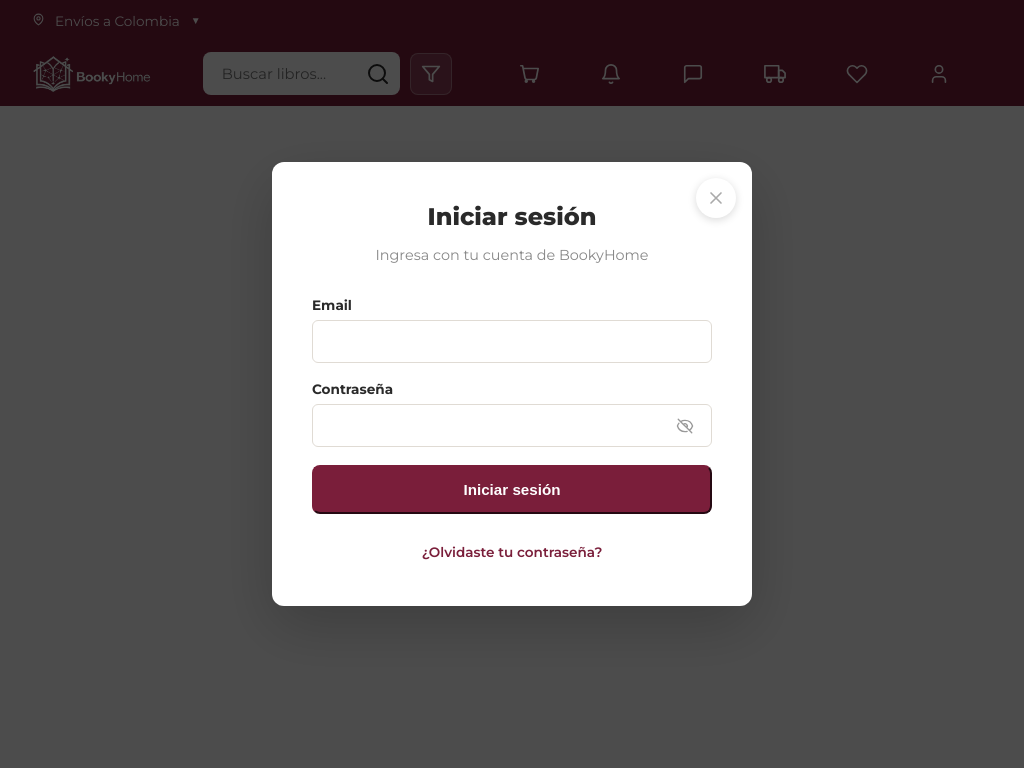
Scenario: Header — Login: submit exitoso › muestra error del servidor si las credenciales son incorrectas
Type "mal@test.com" into the field with id "login-email".
click(512, 342); type("mal@test.com")  # box [312,320,712,363]
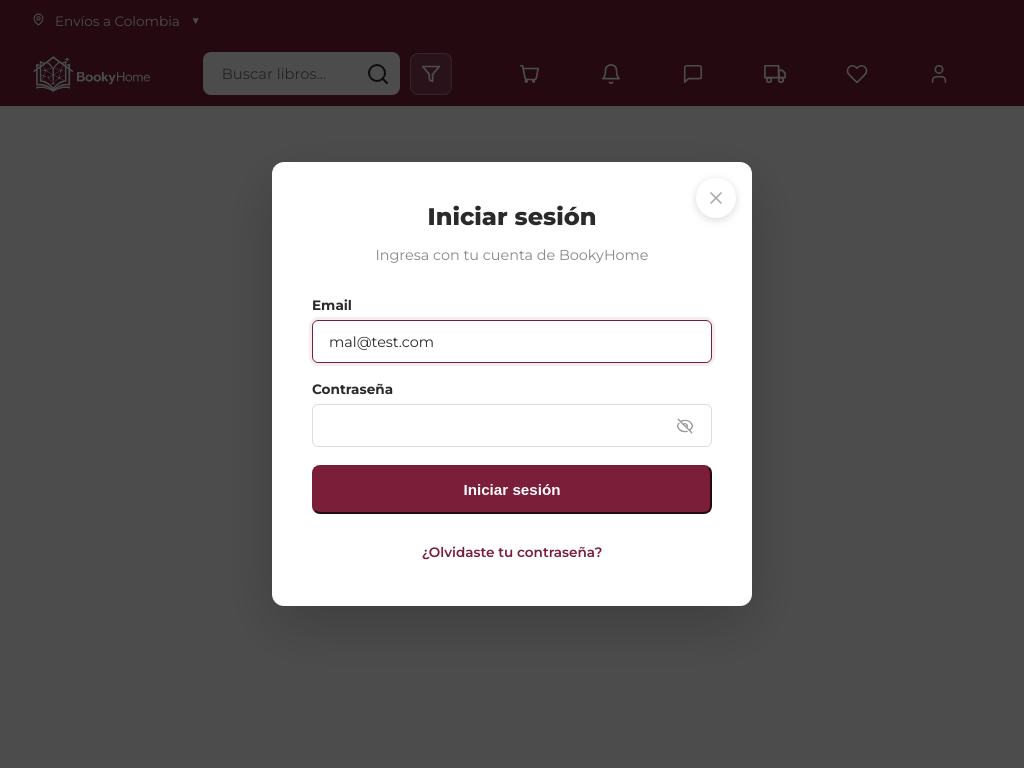
Type "wrongpass" into the password field with id "login-password".
click(512, 426); type("wrongpass")  # box [312,404,712,447]
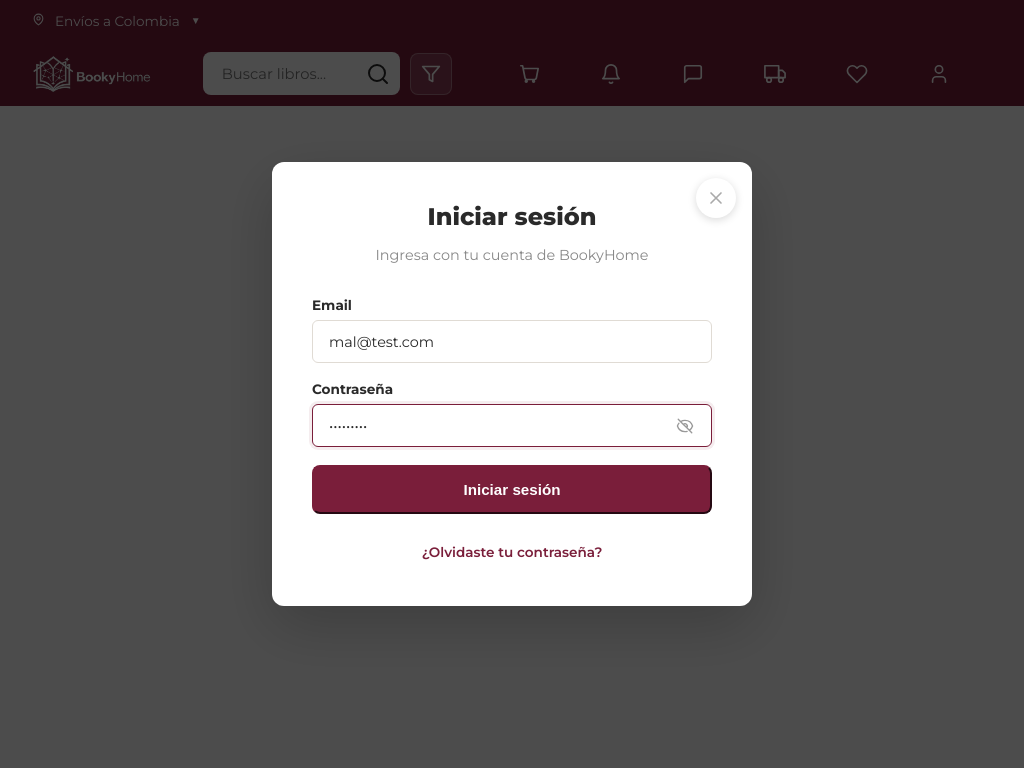
Click the button "Iniciar sesión".
click(512, 489)  # box [312,465,712,514]
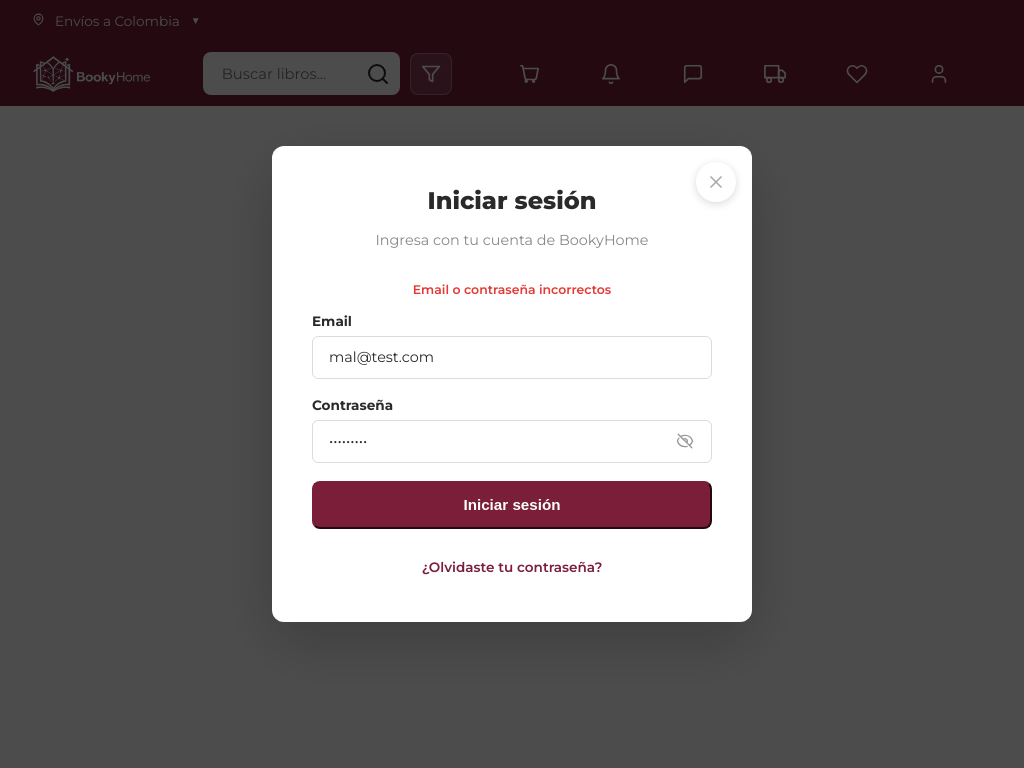
Expected: the text "Email o contraseña incorrectos" is shown, [413,282,611,297]
